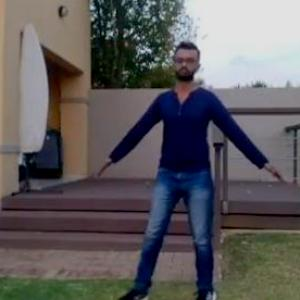land: (98, 49, 280, 299)
